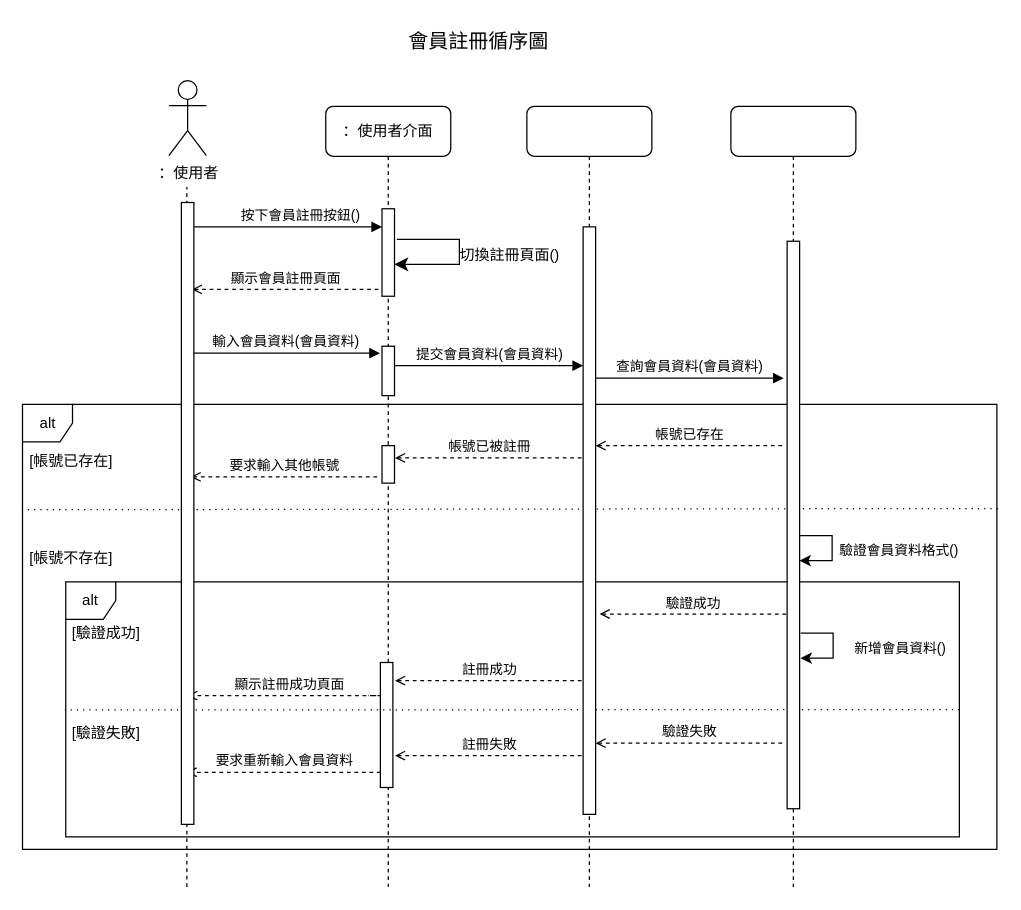
This 1021x910 diagram has some shape labels left out. The box of each missing label's shape, as (x1, y1, x2, y2) in pixels:
：伺服器: (526, 105, 652, 887)
：資料庫: (730, 105, 856, 887)
